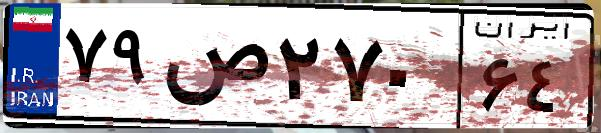0: (385, 28, 445, 110)
2: (270, 28, 330, 110)
4: (525, 38, 570, 115)
6: (475, 38, 525, 113)
7: (330, 28, 385, 110), (57, 26, 110, 100)
9: (110, 28, 158, 98)
ص: (158, 20, 270, 120)
